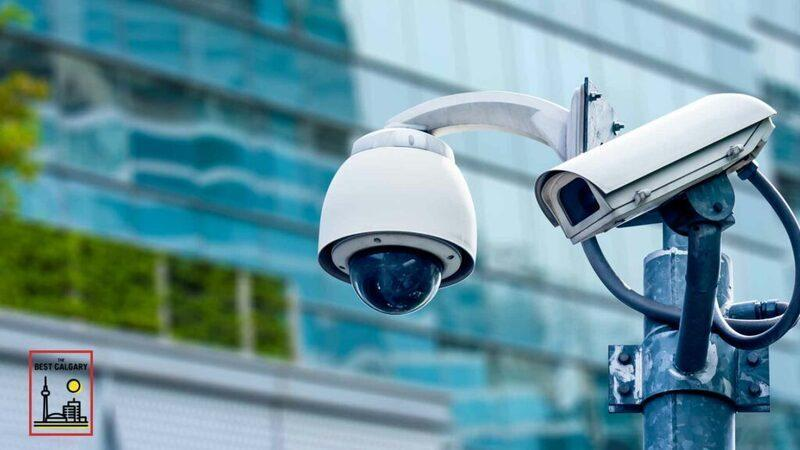box: (524, 82, 780, 251)
dome: (312, 139, 481, 323)
